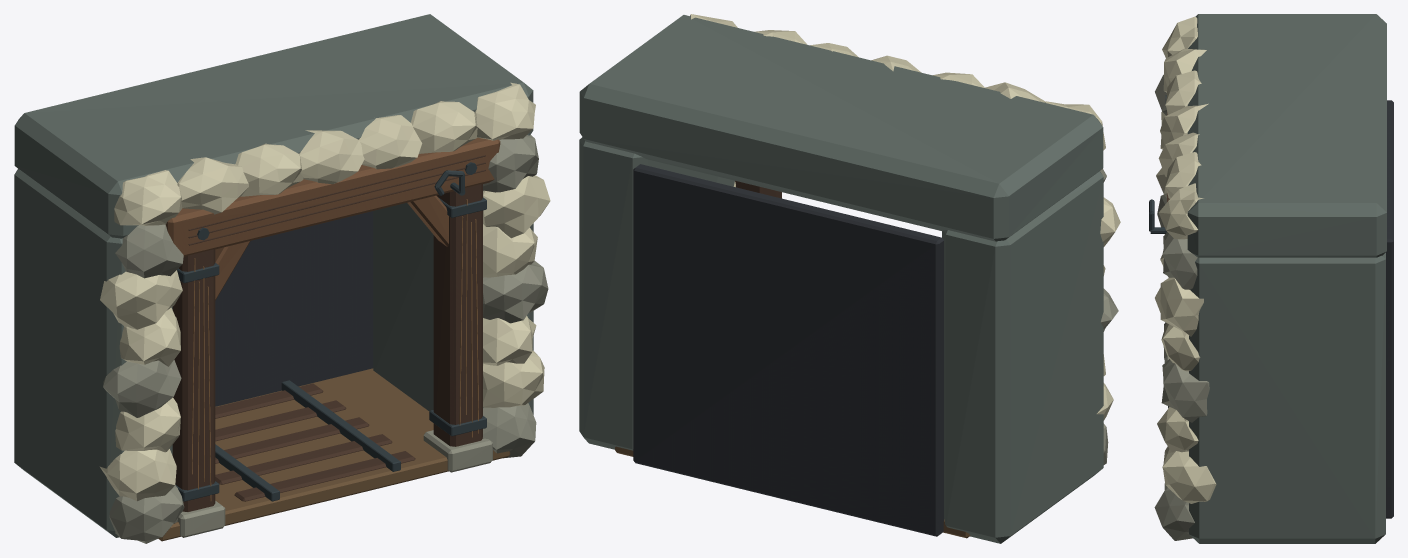
Rendered from mine_mouth.glb.
The picture shows the model from 3 angles, left to right: view 1: azimuth 30°, elevation 25°; view 2: azimuth 150°, elevation 25°; view 3: azimuth 270°, elevation 25°; orthographic projection. The views are drawn at different scales.
Visible parts, largest first — view 1: Detailed structure surfaces; view 2: Detailed structure surfaces; view 3: Detailed structure surfaces.
Boxes of the visible parts, x1,y1,x2,y2 form: Detailed structure surfaces: [14, 14, 550, 543]; Detailed structure surfaces: [579, 14, 1120, 543]; Detailed structure surfaces: [1149, 14, 1393, 543].
Size of the model in its own units: 4 by 3.2 by 2.
Materials: 1 (1 with a texture image).
